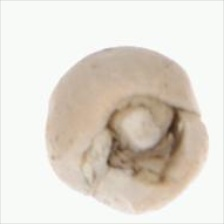L3: (101, 94, 180, 180)
L4: (44, 45, 209, 215)
